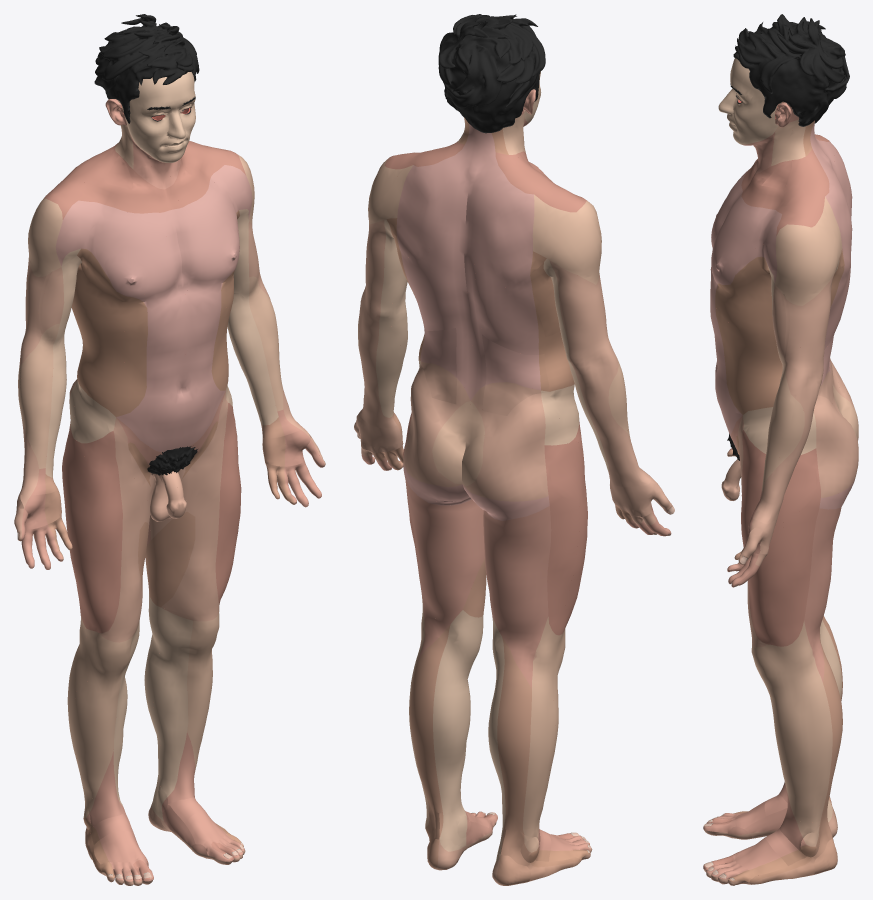
The model's file is regions.glb.
The picture shows the model from 3 angles, left to right: view 1: azimuth 30°, elevation 25°; view 2: azimuth 150°, elevation 25°; view 3: azimuth 270°, elevation 25°; orthographic projection. The views are drawn at different scales.
Parts seen in each view (by area): view 1: Anterior region of thigh.r, Anterior region of thigh.l, Hairs of head, Anterior region of leg.l, Anterior region of leg.r, Pectoral region.r, Deltoid region.r, Anterior region of forearm.l, Anterior region of forearm.r, Lateral region of thorax.r, Lateral region of abdomen.r, Pectoral region.l (+46 smaller); view 2: Posterior region of thigh.r, Hairs of head, Gluteal region.r, Posterior region of thigh.l, Posterior region of leg.r, Posterior region of leg.l, Gluteal region.l, Scapular region.r, Posterior region of arm.r, Infrascapular region.r, Scapular region.l, Posterior region of forearm.r (+32 smaller); view 3: Hairs of head, Anterior region of thigh.l, Posterior region of thigh.l, Deltoid region.l, Gluteal region.l, Posterior region of leg.l, Lateral region of thorax.l, Anterior region of leg.l, Lateral region of abdomen.l, Pectoral region.l, Posterior region of arm.l, Posterior region of neck.l (+45 smaller).
Boxes of the visible parts, x1,y1,x2,y2 form: Anterior region of thigh.r: (69,382,154,636); Anterior region of thigh.l: (150,383,241,615); Hairs of head: (94,14,199,123); Anterior region of leg.l: (153,654,212,780); Anterior region of leg.r: (74,674,127,799); Pectoral region.r: (94,205,174,302); Deltoid region.r: (28,174,90,271); Anterior region of forearm.l: (228,304,292,425); Anterior region of forearm.r: (22,360,66,481); Lateral region of thorax.r: (71,225,147,333); Lateral region of abdomen.r: (77,342,147,422); Pectoral region.l: (183,179,238,284); Posterior region of thigh.r: (483,496,579,640); Hairs of head: (438,14,545,133); Gluteal region.r: (462,392,567,518); Posterior region of thigh.l: (404,472,485,624); Posterior region of leg.r: (488,688,555,830); Posterior region of leg.l: (409,667,468,813); Gluteal region.l: (403,360,470,501); Scapular region.r: (486,191,559,287); Posterior region of arm.r: (543,242,606,348); Infrascapular region.r: (475,274,545,354); Scapular region.l: (379,164,436,266); Posterior region of forearm.r: (570,368,640,475); Hairs of head: (733,14,849,126); Anterior region of thigh.l: (738,407,787,646); Posterior region of thigh.l: (783,506,841,645); Deltoid region.l: (763,197,834,297); Gluteal region.l: (798,395,858,509); Posterior region of leg.l: (798,679,842,822); Lateral region of thorax.l: (715,229,846,343); Anterior region of leg.l: (770,696,806,822); Lateral region of abdomen.l: (723,347,782,414); Pectoral region.l: (711,197,769,291); Posterior region of arm.l: (799,248,839,364); Posterior region of neck.l: (784,120,834,199).
Size of the model in its own units: 0.6801 by 1.74 by 0.294.
